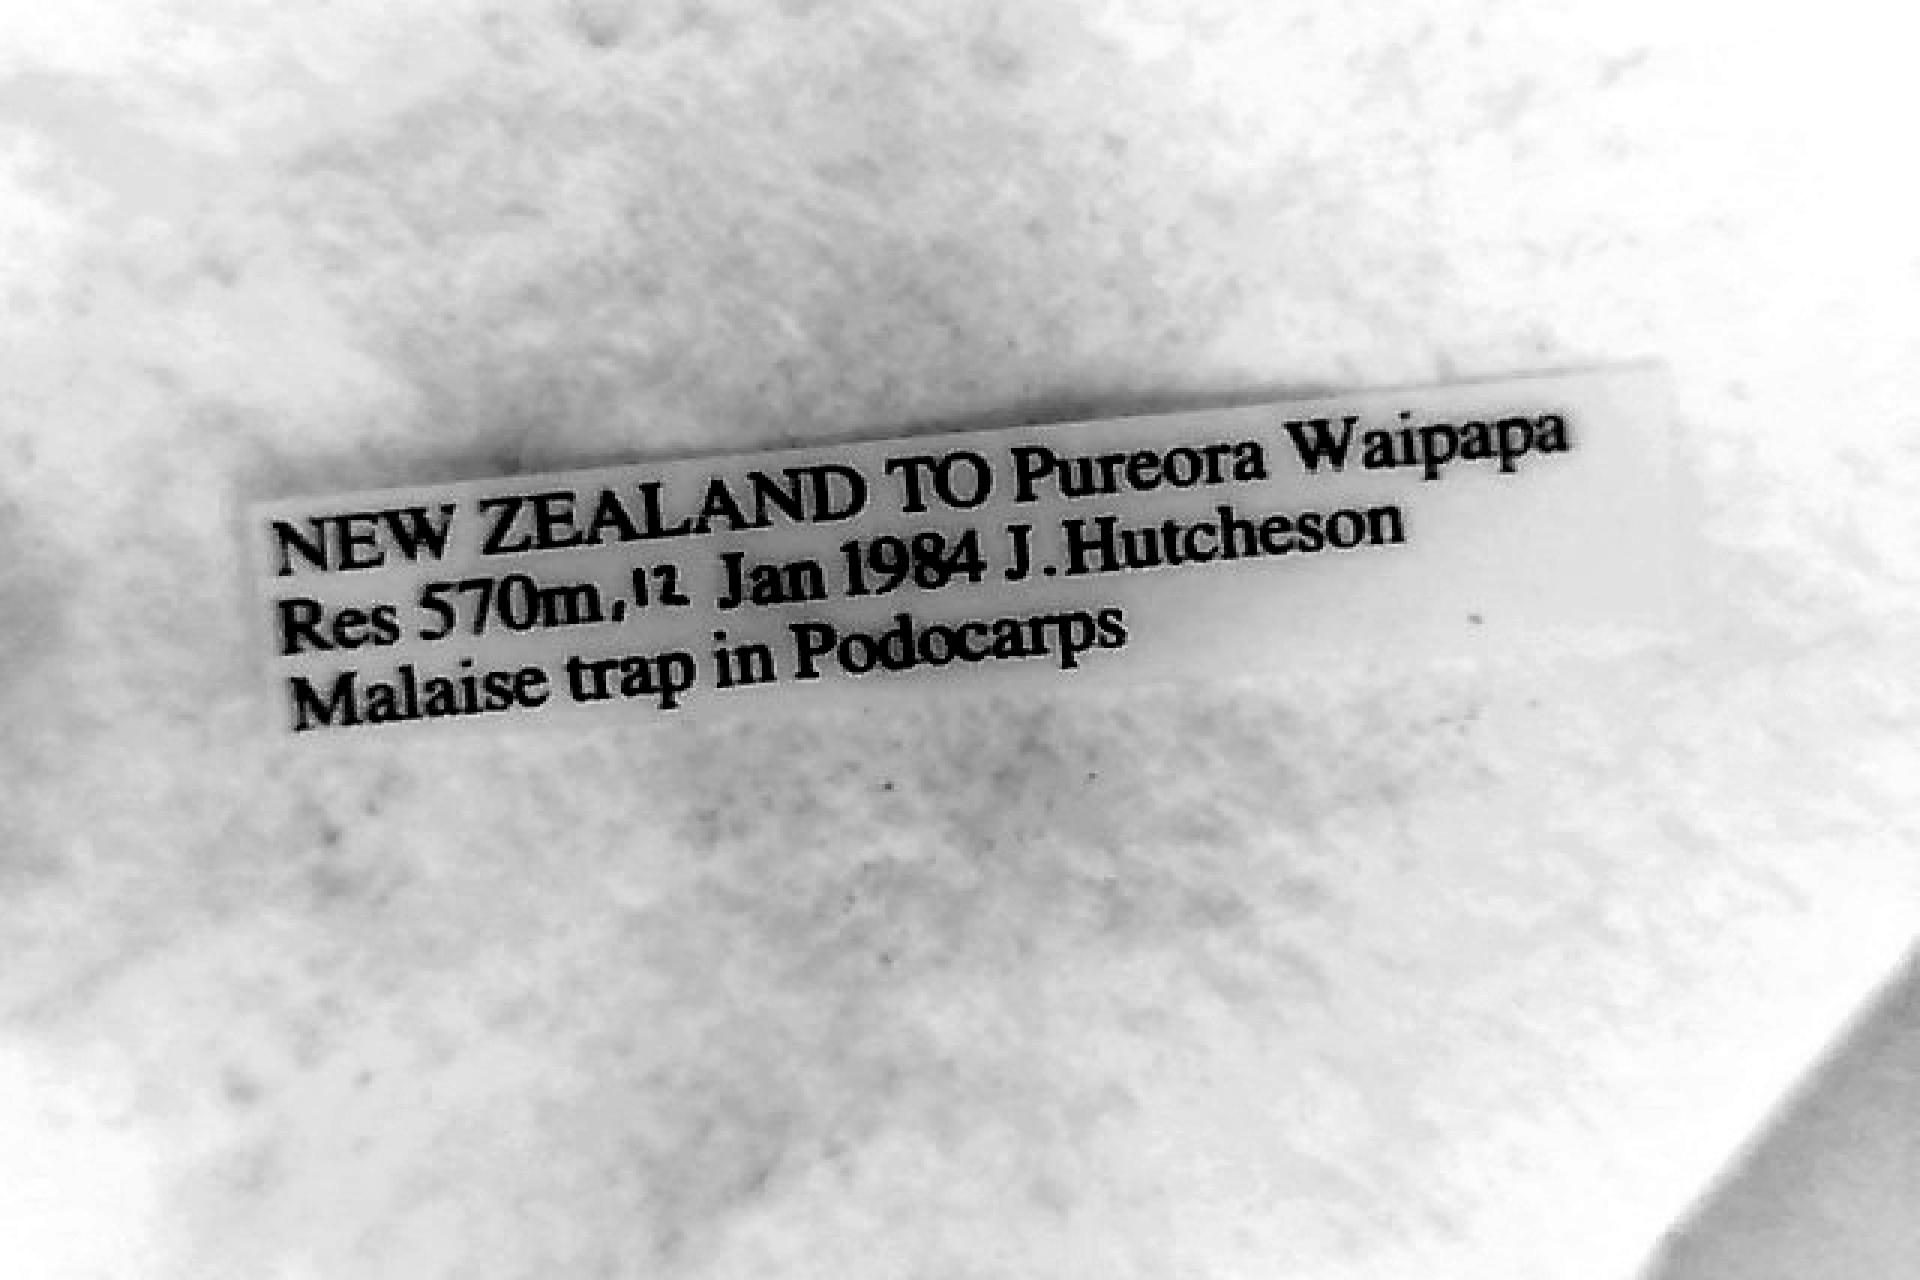typed_label: (251, 370, 1676, 731)
